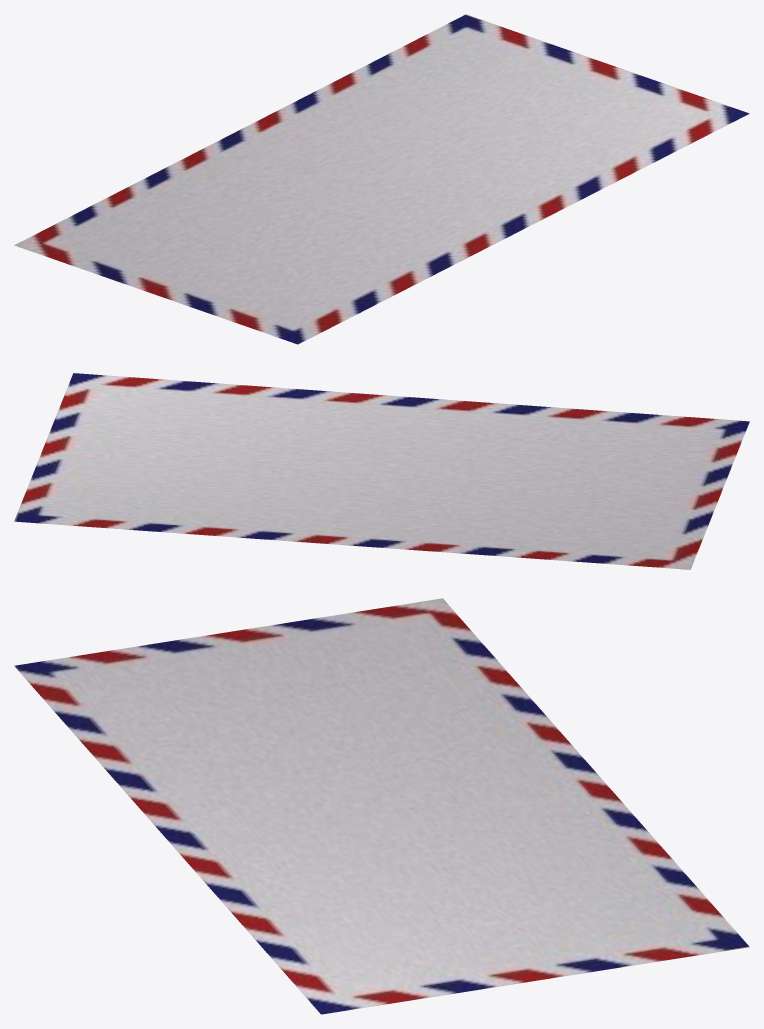
File: via_air_mail.glb
The picture shows the model from 3 angles, top to bottom: view 1: azimuth 30°, elevation 25°; view 2: azimuth 150°, elevation 25°; view 3: azimuth 270°, elevation 25°; orthographic projection. The views are drawn at different scales.
Visible parts, largest first — view 1: via_air_mail; view 2: via_air_mail; view 3: via_air_mail.
Part boxes in pixels (x1,y1,x2,y2): via_air_mail: (14,14,749,344); via_air_mail: (14,373,749,569); via_air_mail: (14,598,749,1014).
Size of the model in its own units: 3.09 by 0 by 2.31.
1 material, 1 textured.
